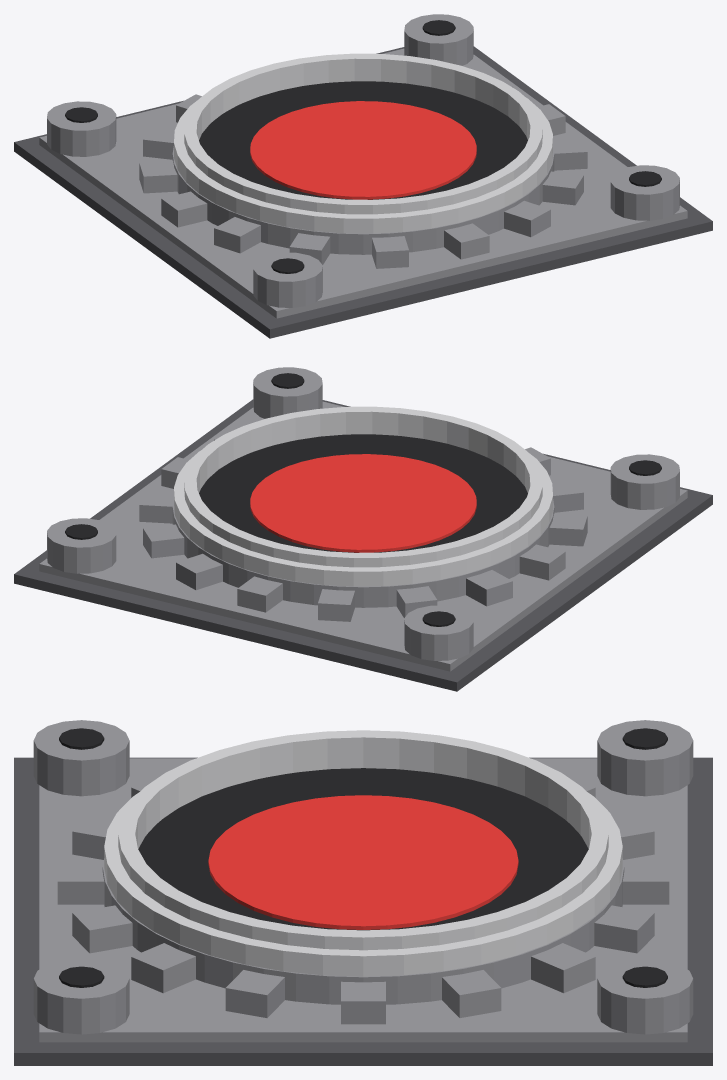
Rendered from vge_e_gravlock_tether.obj.
The picture shows the model from 3 angles, top to bottom: view 1: azimuth 30°, elevation 25°; view 2: azimuth 150°, elevation 25°; view 3: azimuth 270°, elevation 25°; orthographic projection. The views are drawn at different scales.
Parts seen in each view (by area): view 1: vge_e_gravlock_tether; view 2: vge_e_gravlock_tether; view 3: vge_e_gravlock_tether.
Boxes of the visible parts, x1,y1,x2,y2 form: vge_e_gravlock_tether: (14, 14, 712, 338); vge_e_gravlock_tether: (14, 367, 712, 691); vge_e_gravlock_tether: (14, 720, 712, 1065).
Bounding box in the file's own units: 4.96 × 0.66 × 4.96.
